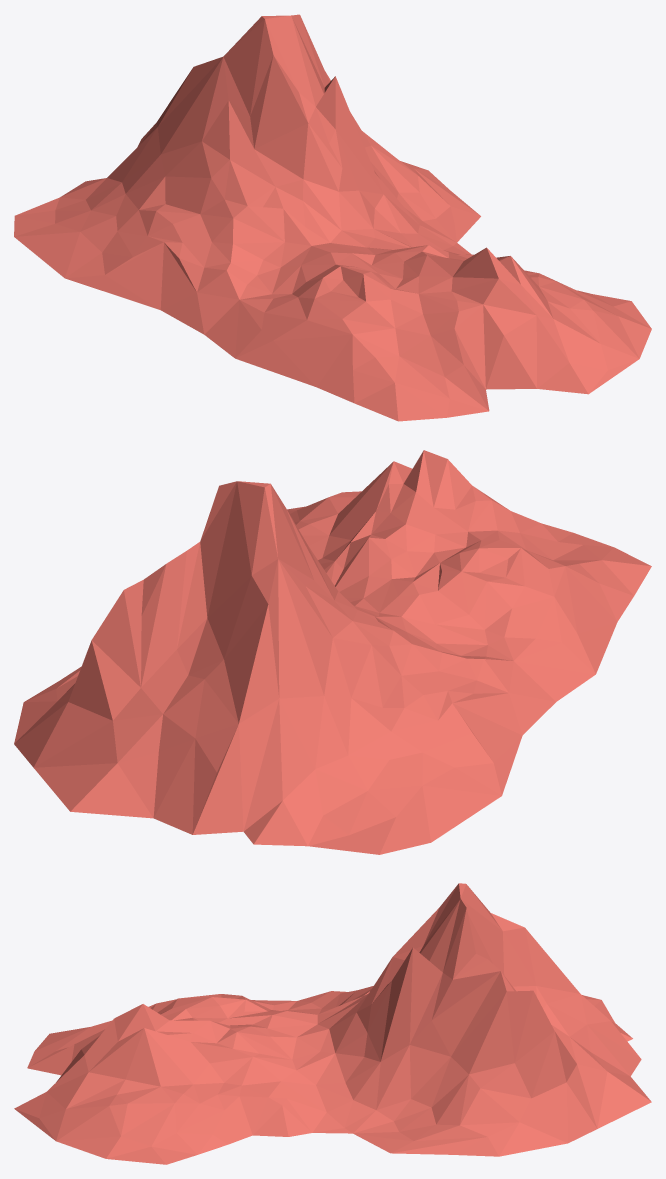
Rendered from Montain_5.glb.
3 renders of one model, top to bottom at view 1: azimuth 30°, elevation 25°; view 2: azimuth 150°, elevation 25°; view 3: azimuth 270°, elevation 25°, orthographic. The views are drawn at different scales.
Visible parts, largest first — view 1: Montain_5; view 2: Montain_5; view 3: Montain_5.
Part boxes in pixels (left/top/right/bottom): Montain_5: left=14, top=14, right=651, bottom=421; Montain_5: left=14, top=450, right=651, bottom=854; Montain_5: left=14, top=883, right=651, bottom=1164.
Bounding box in the file's own units: 1698 × 860 × 2593.
